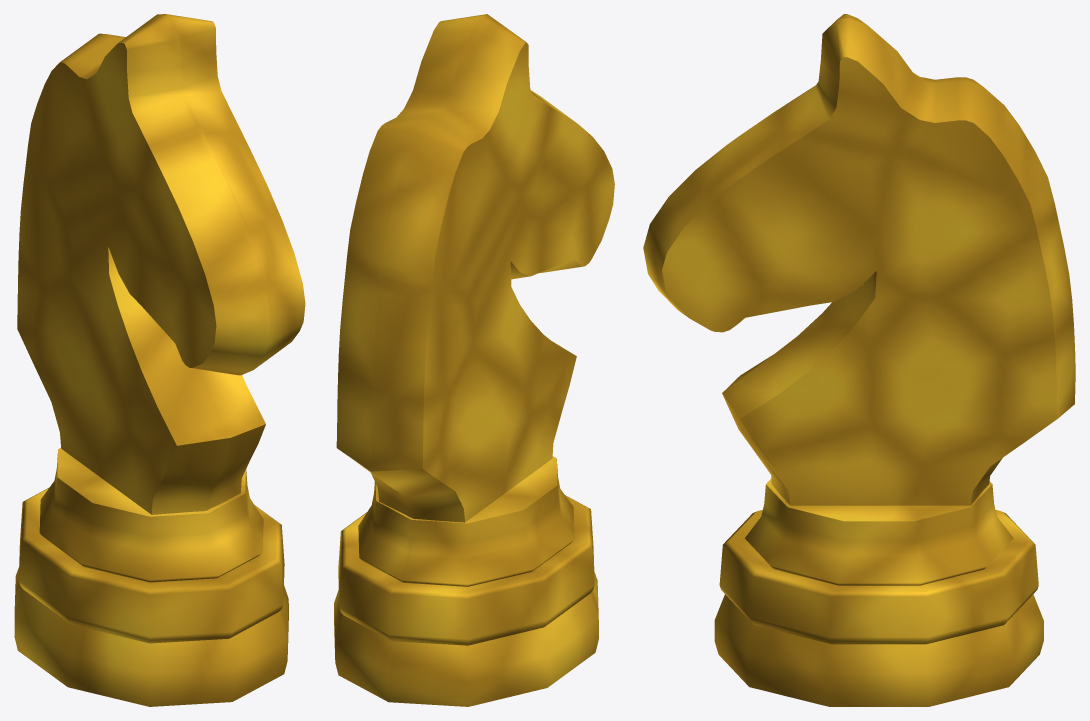
The model's file is item-1-1.glb.
3 views of the same model, side by side, from view 1: azimuth 30°, elevation 25°; view 2: azimuth 150°, elevation 25°; view 3: azimuth 270°, elevation 25° (orthographic). The views are drawn at different scales.
Parts seen in each view (by area): view 1: BlackHorse; view 2: BlackHorse; view 3: BlackHorse.
Boxes of the visible parts, bbox=[...] form: BlackHorse: bbox=[14, 14, 305, 706]; BlackHorse: bbox=[334, 14, 614, 706]; BlackHorse: bbox=[643, 14, 1075, 706].
Size of the model in its own units: 0.0718 by 0.1965 by 0.1211.
1 material, 1 textured.
